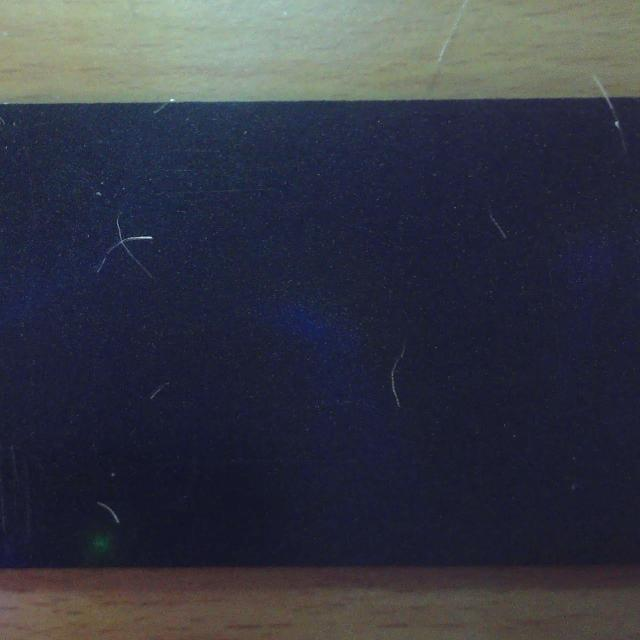defect: (100, 216, 155, 283), (598, 98, 632, 160), (384, 340, 411, 413), (93, 494, 124, 530), (487, 209, 510, 248), (151, 377, 173, 406), (149, 102, 177, 120)
